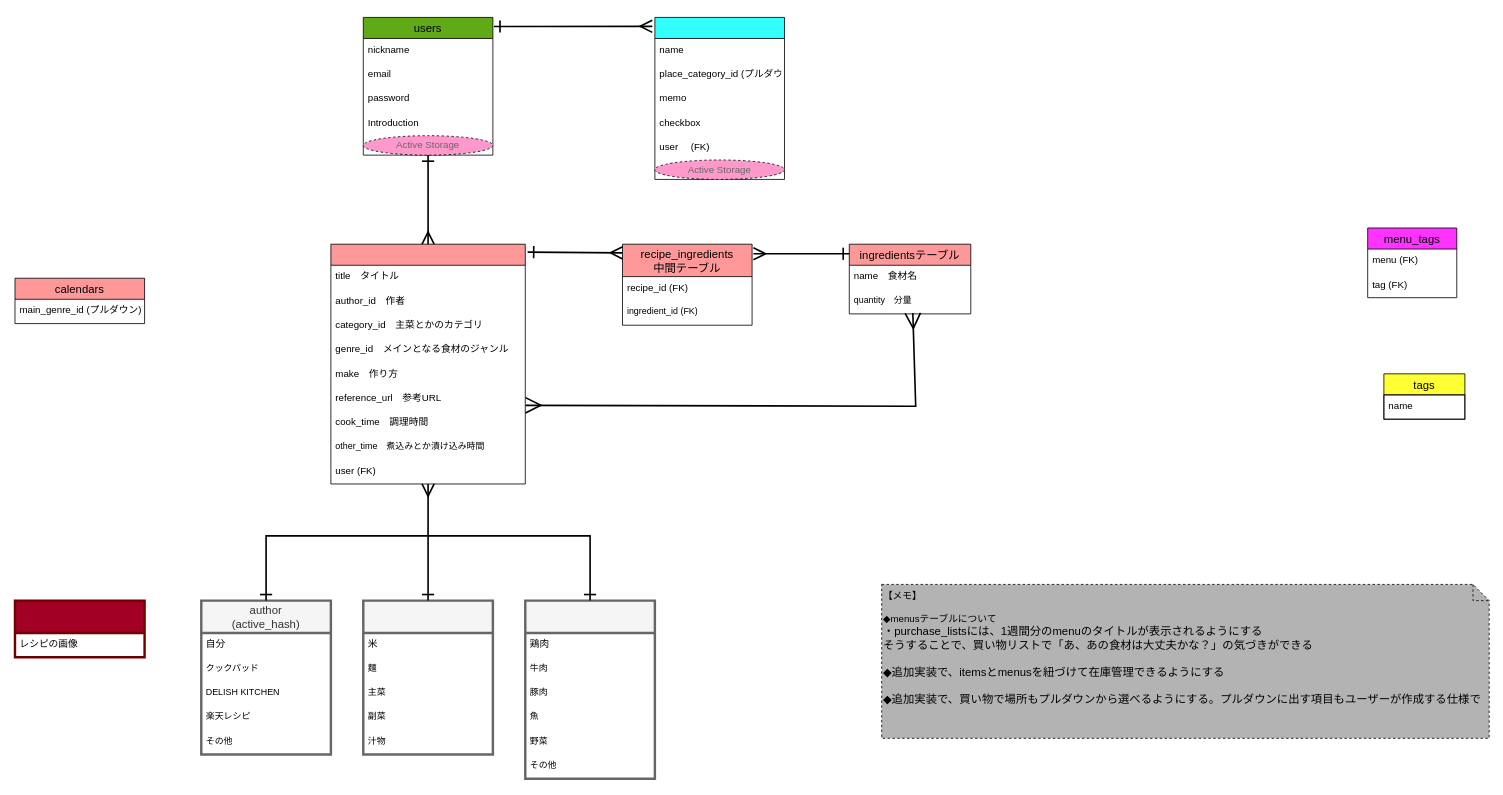
Image size: 1503x795. Some labels were removed from this diagram. Each missing label, with the box of its shape:
active_image: (13, 599, 145, 658)
category (active_hash): (362, 599, 494, 755)
genre (active_hash): (524, 599, 656, 780)
items: (654, 17, 784, 179)
recipesテーブル: (330, 243, 525, 484)
